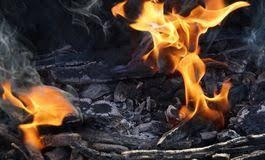fire: (117, 0, 245, 120), (0, 78, 75, 148)
